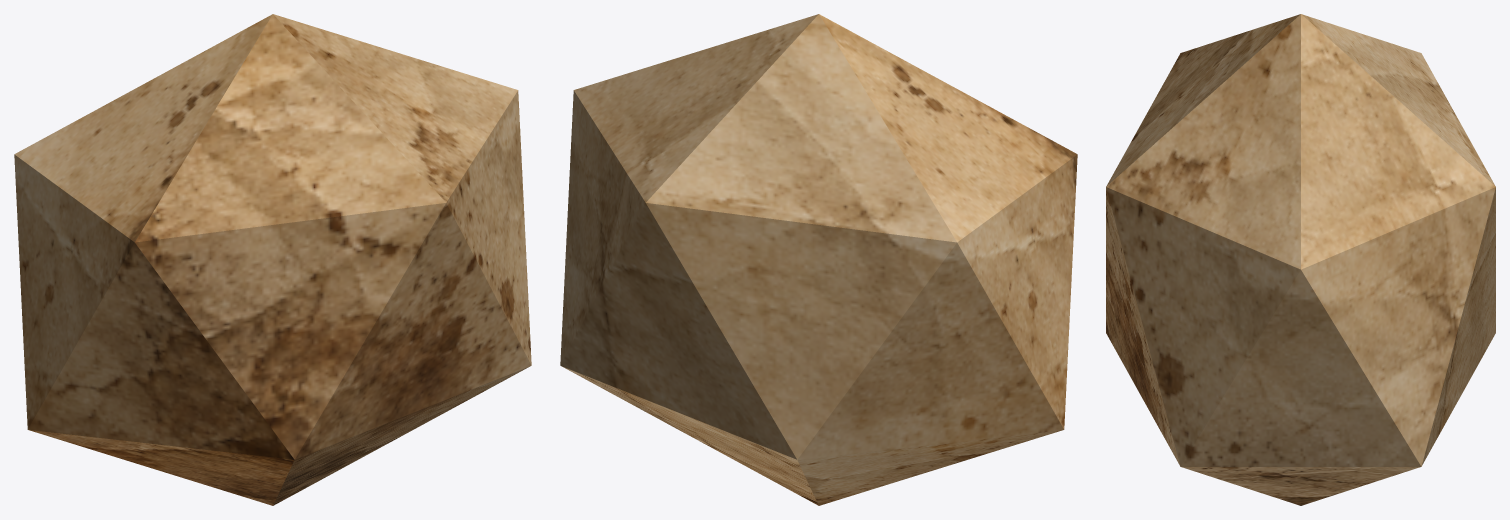
File: level1_crumpled_paper_ball.glb
3 views of the same model, side by side, from view 1: azimuth 30°, elevation 25°; view 2: azimuth 150°, elevation 25°; view 3: azimuth 270°, elevation 25° (orthographic).
Visible parts, largest first — view 1: CrumpledPaperBall; view 2: CrumpledPaperBall; view 3: CrumpledPaperBall.
Part boxes in pixels (x1=…): CrumpledPaperBall: x1=14, y1=14, x2=531, y2=505; CrumpledPaperBall: x1=560, y1=14, x2=1077, y2=505; CrumpledPaperBall: x1=1106, y1=14, x2=1495, y2=505.
Bounding box in the file's own units: 0.0657 × 0.063 × 0.0453.
Materials: 1 (1 with a texture image).
